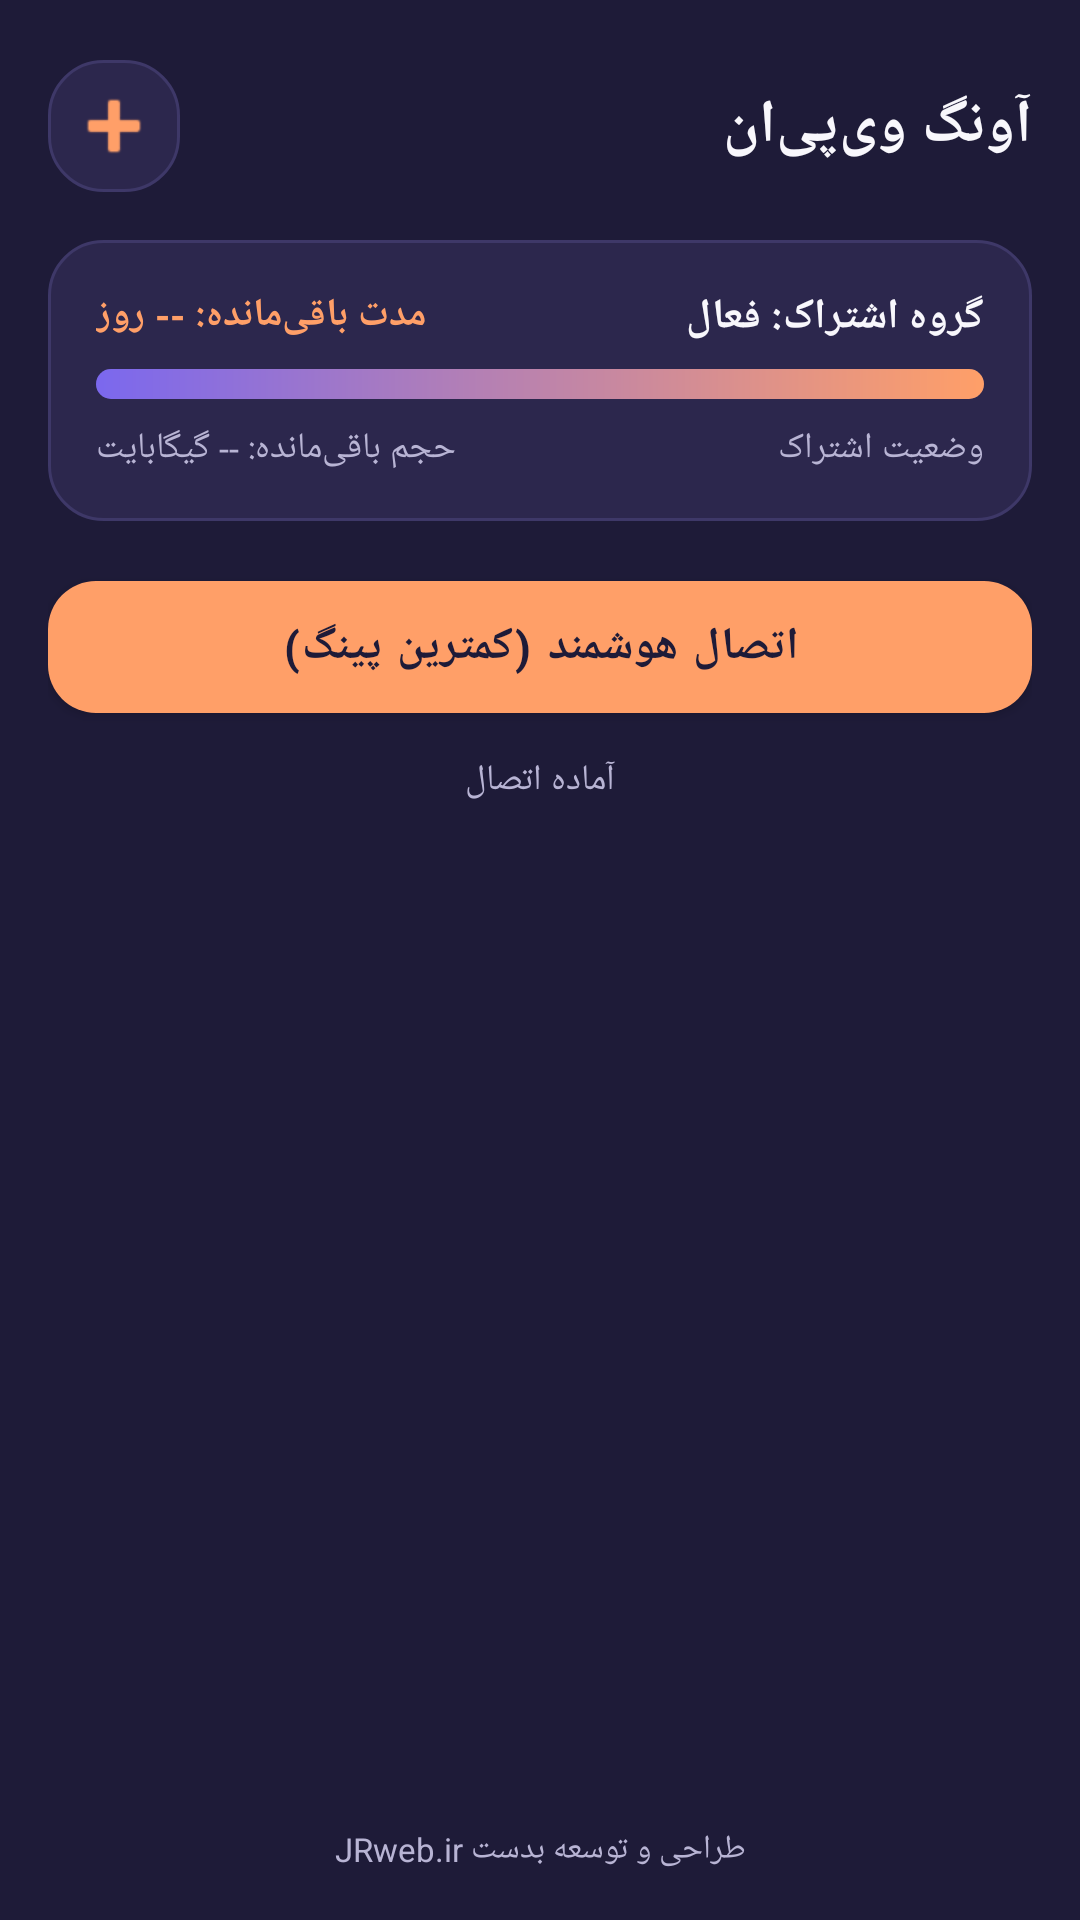

Where to tap for icons on this 1080px×1920px app screen, as [x,y]:
Add: [114,126]
